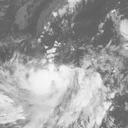cyclone: (17, 59, 97, 115)
